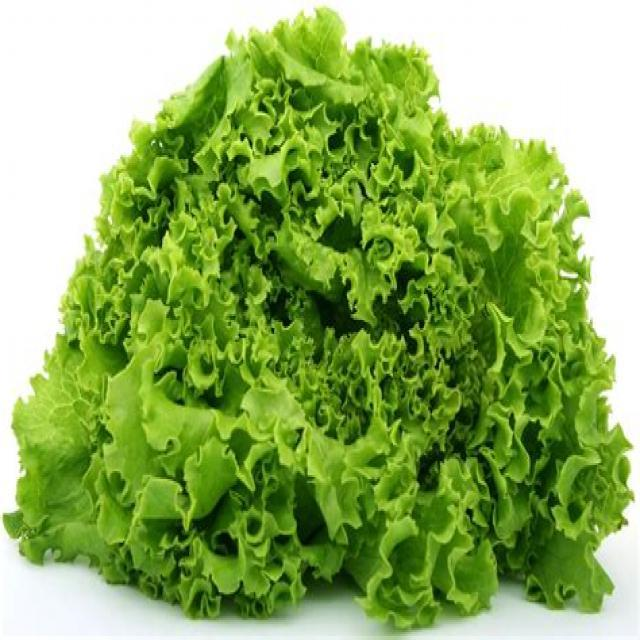Lettuce: (14, 7, 629, 626)
